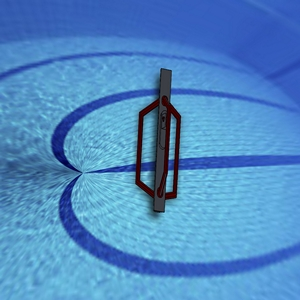submarine: (111, 51, 213, 220)
